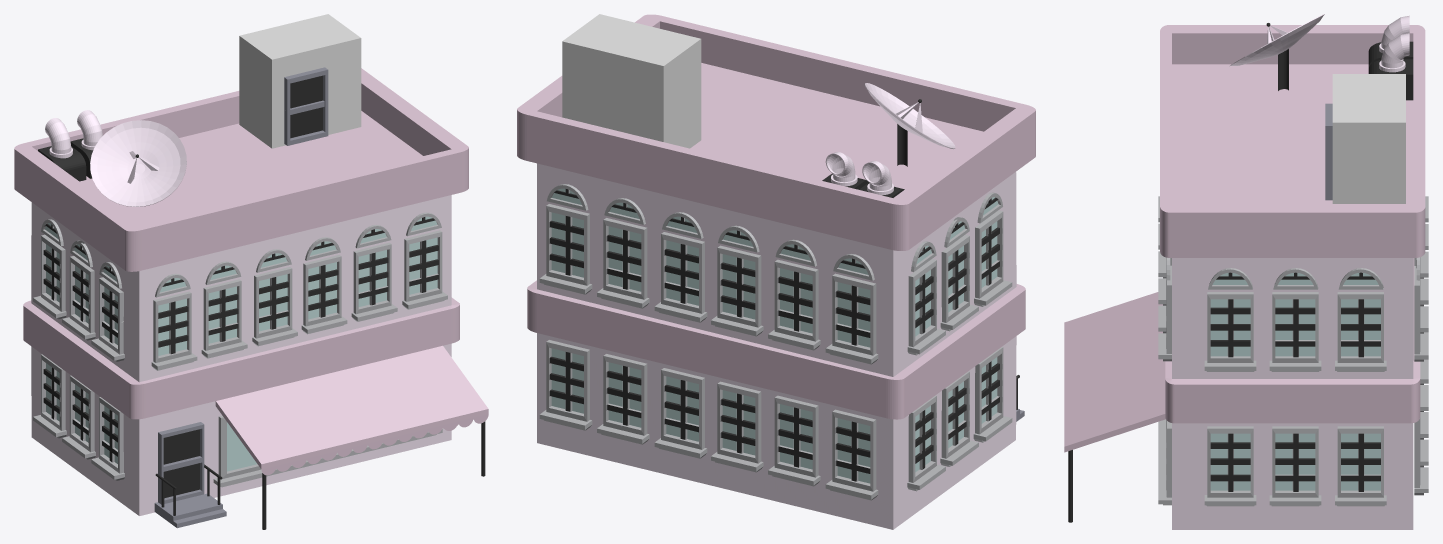
The model's file is Yataybina 1.fbx.
3 views of the same model, side by side, from view 1: azimuth 30°, elevation 25°; view 2: azimuth 150°, elevation 25°; view 3: azimuth 270°, elevation 25° (orthographic). The views are drawn at different scales.
Parts seen in each view (by area): view 1: kolonlar, Circle, Cube.158, Cylinder.003, Cube.160, Cube.022, Cube.003, Cube.161, Cube.002, Cube.060, Cube.037, Cube.036 (+23 smaller); view 2: kolonlar, Cube.158, Cylinder.003, Cube.152, Cube.074, Cube.100, Cube.026, Cube.163, Cube.075, Cube.169, Cube.085, Cube.099 (+34 smaller); view 3: kolonlar, Circle, Cube.158, Cube.106, Cube.053, Cube.107, Cube.104, Cube.052, Cube.055, Cylinder.003, Cylinder.015, Cube.137 (+20 smaller).
Part boxes in pixels (x1,y1,x2,y2): kolonlar: [14, 68, 468, 515]; Circle: [215, 345, 488, 475]; Cube.158: [239, 14, 361, 148]; Cylinder.003: [90, 120, 186, 206]; Cube.160: [154, 422, 226, 528]; Cube.022: [213, 415, 442, 487]; Cube.003: [163, 429, 199, 498]; Cube.161: [284, 67, 328, 145]; Cube.002: [290, 75, 322, 138]; Cube.060: [201, 279, 247, 358]; Cube.037: [351, 242, 397, 321]; Cube.036: [402, 230, 447, 309]; kolonlar: [517, 14, 1035, 529]; Cube.158: [562, 14, 701, 148]; Cylinder.003: [864, 83, 955, 166]; Cube.152: [825, 273, 878, 364]; Cube.074: [825, 409, 878, 500]; Cube.100: [597, 218, 649, 308]; Cube.026: [597, 354, 649, 444]; Cube.163: [768, 259, 820, 350]; Cube.075: [768, 395, 820, 486]; Cube.169: [711, 245, 763, 336]; Cube.085: [711, 381, 763, 472]; Cube.099: [654, 232, 707, 322]; kolonlar: [1160, 25, 1425, 529]; Circle: [1064, 292, 1165, 452]; Cube.158: [1332, 74, 1405, 203]; Cube.106: [1269, 426, 1321, 506]; Cube.053: [1269, 292, 1321, 371]; Cube.107: [1204, 426, 1256, 506]; Cube.104: [1335, 426, 1386, 506]; Cube.052: [1204, 292, 1256, 371]; Cube.055: [1335, 292, 1386, 371]; Cylinder.003: [1229, 14, 1324, 90]; Cylinder.015: [1379, 15, 1409, 72]; Cube.137: [1275, 299, 1315, 356].
Size of the model in its own units: 814 by 803 by 667.
